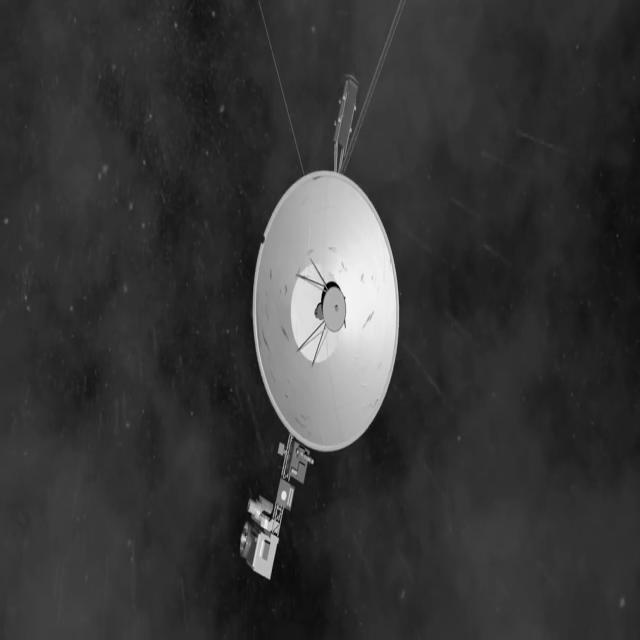satellite: (211, 5, 411, 597)
